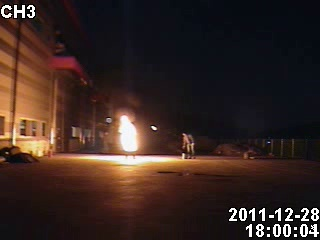fire: (117, 114, 139, 154)
